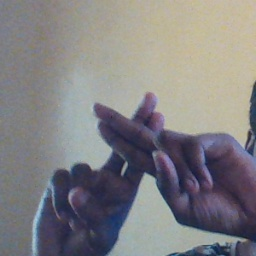F: (64, 90, 210, 210)
